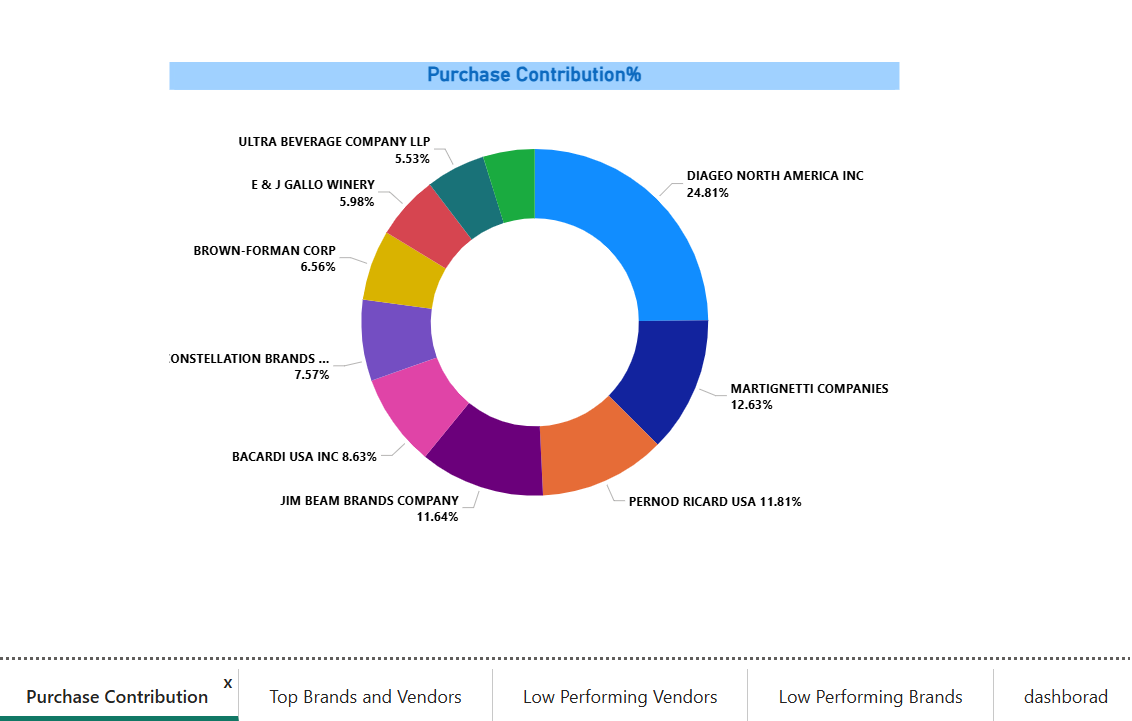

What the dashboard file says about the page in this screenshot:
{"tool":"powerbi","page":{"name":"Purchase Contribution","canvas":[1280,720],"ordinal":1},"visuals":[{"type":"donutChart","title":"Purchase Contribution% ","fields":{"Category":["PurchaseContribution.VendorName"],"Y":["Sum(PurchaseContribution.PurchaseContribution%)"]},"box":[192.8,77.5,788,536.7],"z":0}]}

Visuals, with their boxes on the page's 1280x720 design canvas (x1, y1, x2, y2). These are canvas units, not pixel positions in the 1132x721 screenshot, which may show the page scaled, cropped or inside an application window:
"Purchase Contribution% " donutChart: left=193, top=78, right=981, bottom=614
